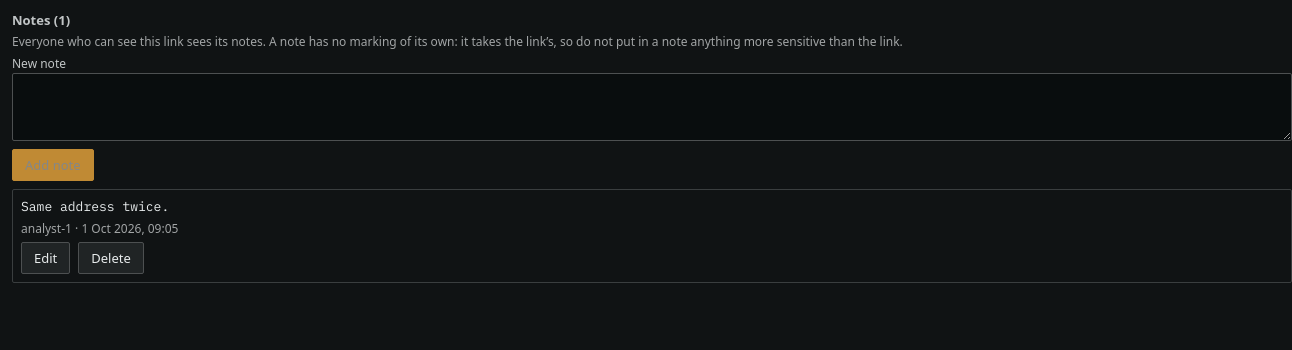
Test: LinkNotes › cancels an edit with Escape, changing nothing
Expected: the text "Same address twice." is shown, [21,198,169,215]
Click the button with aria-label "edit note". click: [46, 258]
box: [21,242,70,274]
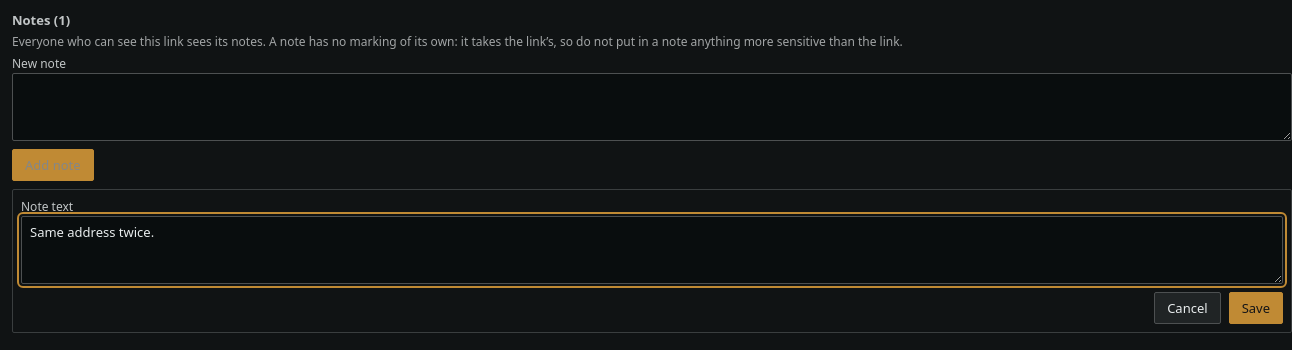
Press Escape in the text box labelled "Note text", box [21,216,1283,284]
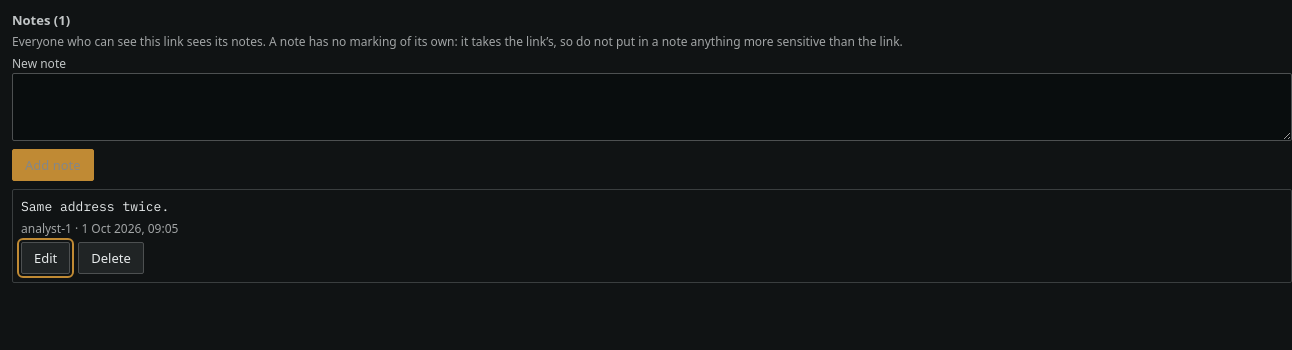
Now the label labelled "Note text" is gone
Now the text "Same address twice." is shown, box [21,198,169,215]
